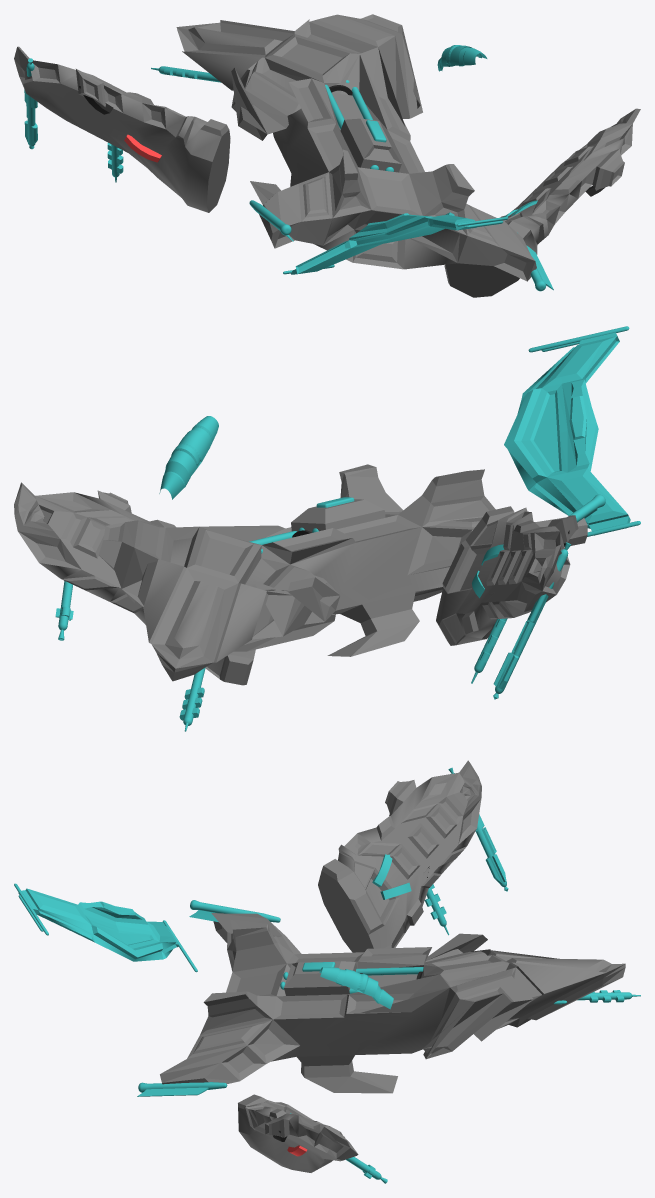
The model's file is EpavePetit.fbx.
3 renders of one model, top to bottom at view 1: azimuth 30°, elevation 25°; view 2: azimuth 150°, elevation 25°; view 3: azimuth 270°, elevation 25°, orthographic. The views are drawn at different scales.
Visible parts, largest first — view 1: Epavepetit; view 2: Epavepetit; view 3: Epavepetit.
Boxes of the visible parts, box(x1,y1,x2,y2) form: Epavepetit: box(14, 14, 640, 297); Epavepetit: box(14, 326, 640, 731); Epavepetit: box(14, 760, 640, 1183).
Size of the model in its own units: 4.91 by 5.39 by 2.35.
